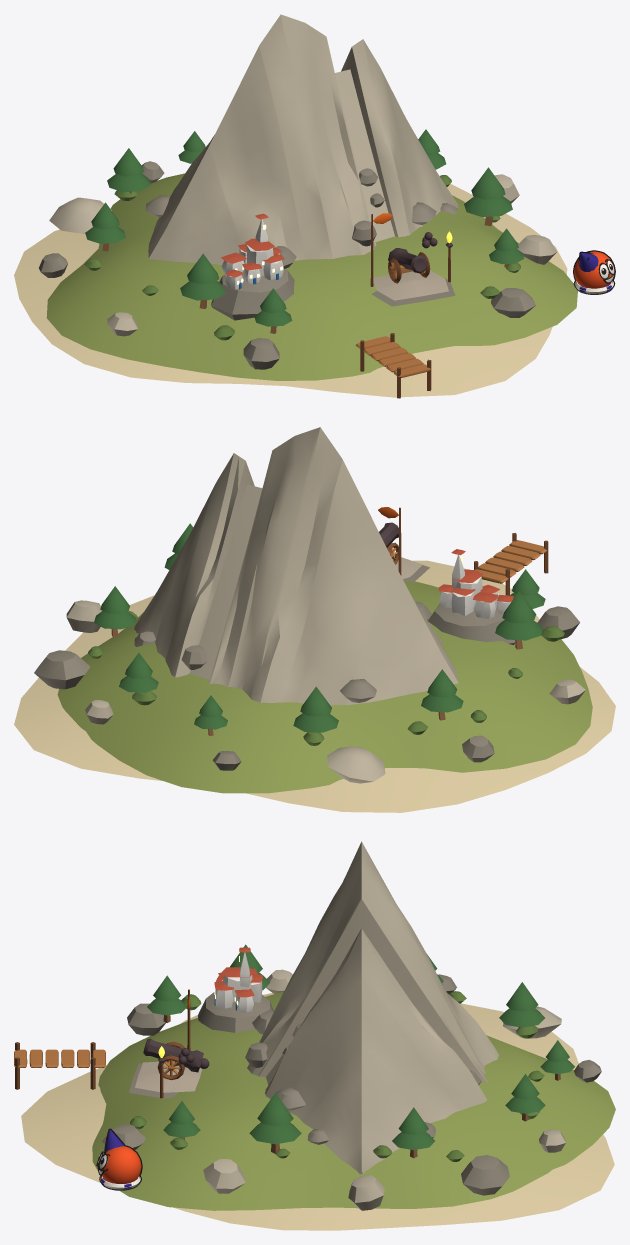
The model's file is canon.glb.
3 renders of one model, top to bottom at view 1: azimuth 30°, elevation 25°; view 2: azimuth 150°, elevation 25°; view 3: azimuth 270°, elevation 25°, orthographic. The views are drawn at different scales.
Visible parts, largest first — view 1: canon_isla; view 2: canon_isla; view 3: canon_isla.
Boxes of the visible parts, x1,y1,x2,y2 form: canon_isla: (14,14,615,398); canon_isla: (14,427,615,812); canon_isla: (14,841,615,1230).
Size of the model in its own units: 15.7 by 8.3 by 16.56.
